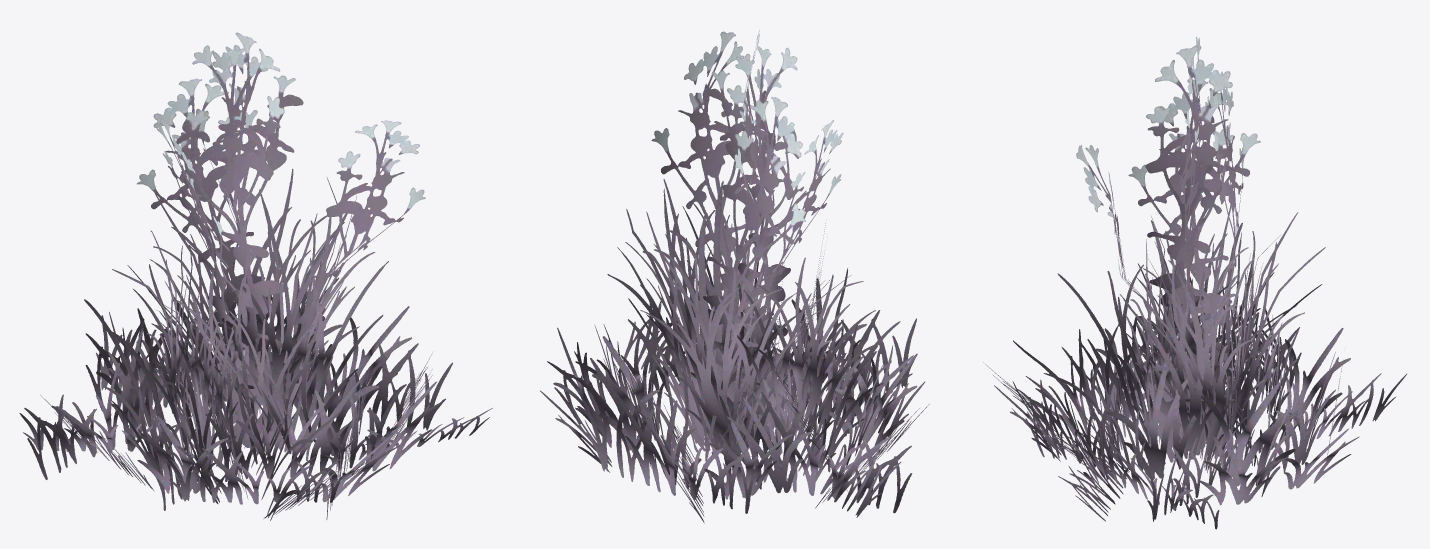
3 renders of one model, left to right at view 1: azimuth 30°, elevation 25°; view 2: azimuth 150°, elevation 25°; view 3: azimuth 270°, elevation 25°, orthographic. The views are drawn at different scales.
Parts seen in each view (by area): view 1: SM_FH_GrassLong_04_NoDeform_LOD0; view 2: SM_FH_GrassLong_04_NoDeform_LOD0; view 3: SM_FH_GrassLong_04_NoDeform_LOD0.
Boxes of the visible parts, box(x1,y1,x2,y2) form: SM_FH_GrassLong_04_NoDeform_LOD0: box(19, 32, 492, 520); SM_FH_GrassLong_04_NoDeform_LOD0: box(540, 30, 929, 523); SM_FH_GrassLong_04_NoDeform_LOD0: box(983, 36, 1406, 529).
Bounding box in the file's own units: 0.9126 × 1.02 × 0.9146.
1 material, 1 textured.
